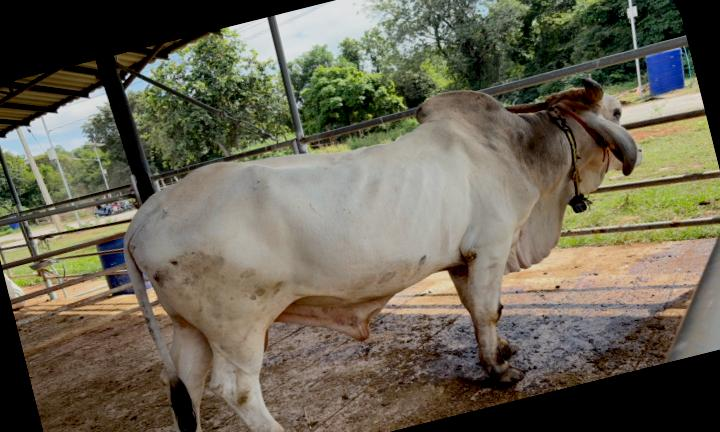Brahman: (123, 77, 640, 432)
